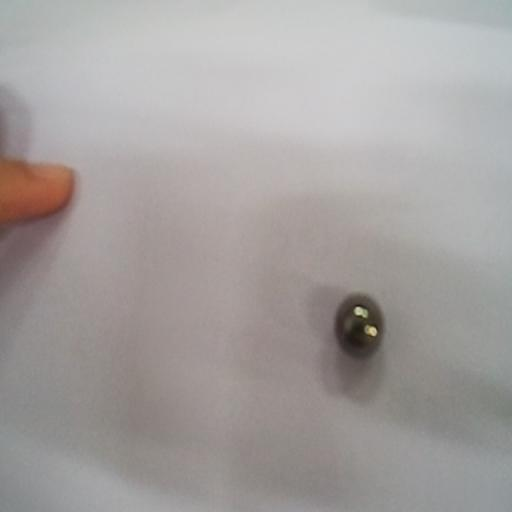steel-ball: (332, 286, 390, 364)
